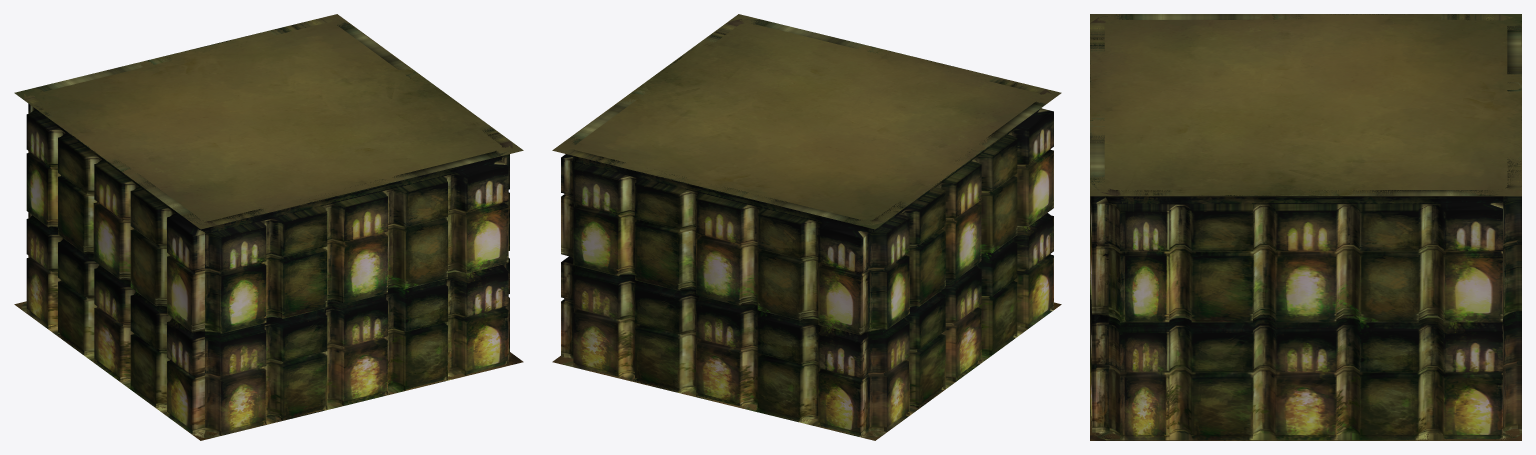
Rendered from stage01.fbx.
The picture shows the model from 3 angles, left to right: view 1: azimuth 30°, elevation 25°; view 2: azimuth 150°, elevation 25°; view 3: azimuth 270°, elevation 25°; orthographic projection. The views are drawn at different scales.
Parts seen in each view (by area): view 1: stage01; view 2: stage01; view 3: stage01.
Part boxes in pixels (x1,y1,x2,y2): stage01: (14, 14, 523, 440); stage01: (552, 14, 1061, 440); stage01: (1090, 14, 1521, 440).
Bounding box in the file's own units: 24 × 15 × 24.
Materials: 1 (1 with a texture image).
